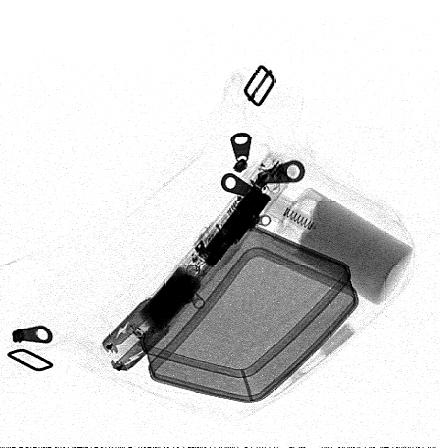Baton: (100, 152, 299, 373)
